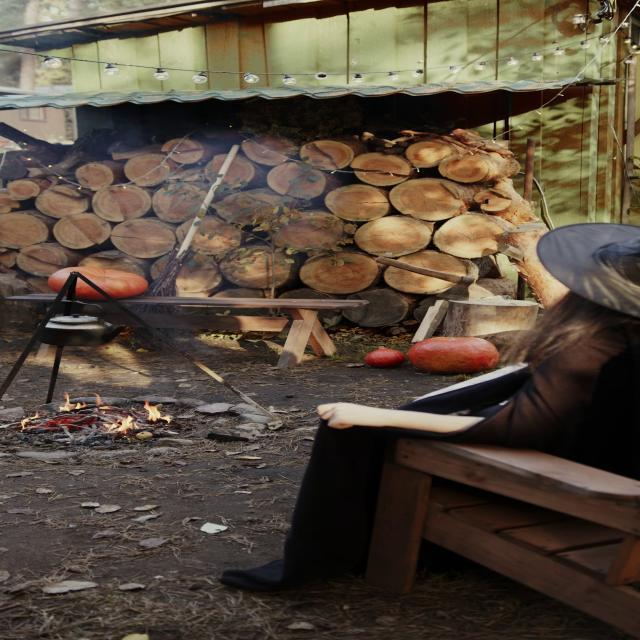Fire: (24, 391, 178, 432)
